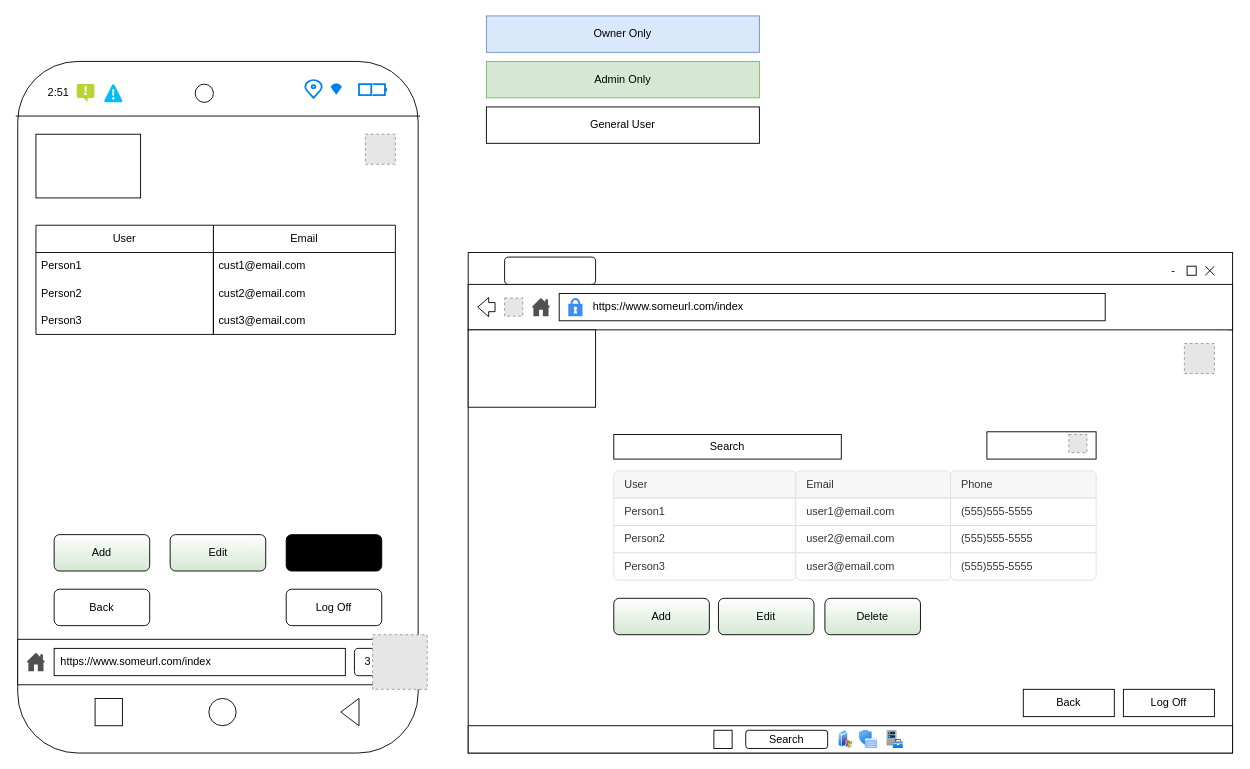
Image size: 1250x769. Some labels were removed from this diagram. Grey dashed boxes stand in for pictures. The box of each missing label's shape, as (x1, y1, x2, y2) in pixels:
Company Logo: (467, 329, 596, 407)
Filters: (986, 431, 1096, 459)
Logo: (35, 133, 141, 198)
Tab: (504, 256, 596, 284)
